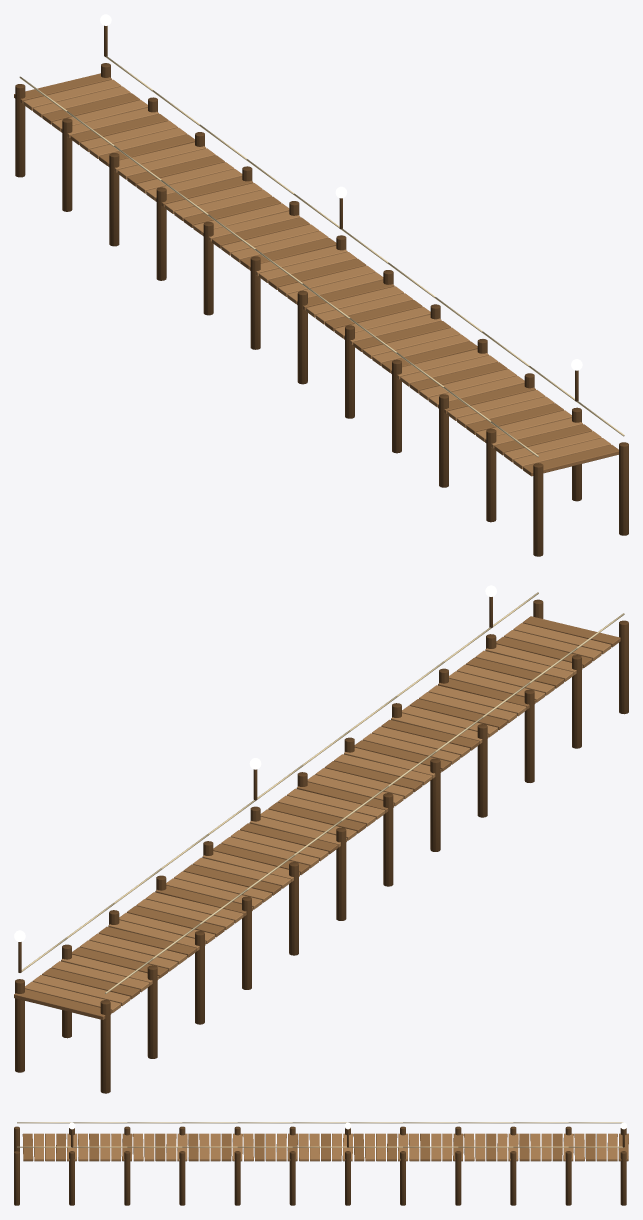
The model's file is dermaga.glb.
3 views of the same model, one above another, from view 1: azimuth 30°, elevation 25°; view 2: azimuth 150°, elevation 25°; view 3: azimuth 270°, elevation 25° (orthographic). The views are drawn at different scales.
Parts seen in each view (by area): view 1: Cube.054, Cylinder.044, Cylinder.012, Cylinder.016, Cylinder.020, Cylinder.008, Cylinder.024, Cylinder.004, Cylinder.040, Cylinder, Cylinder.045, Cube.053 (+56 smaller); view 2: Cube, Cylinder.028, Cylinder, Cylinder.020, Cylinder.024, Cylinder.032, Cylinder.004, Cylinder.036, Cylinder.044, Cube.002, Cylinder.008, Cylinder.040 (+56 smaller); view 3: Cylinder.002, Cylinder.006, Cylinder.014, Cylinder.030, Cylinder.038, Cylinder.026, Cylinder.010, Cylinder.034, Cylinder.045, Cylinder.022, Cylinder.018, Cylinder.042 (+56 smaller).
Part boxes in pixels (x1=…): Cube.054: x1=523, y1=444, x2=618, y2=476; Cylinder.044: x1=533, y1=463, x2=543, y2=556; Cylinder.012: x1=156, y1=187, x2=166, y2=280; Cylinder.016: x1=203, y1=222, x2=213, y2=315; Cylinder.020: x1=250, y1=256, x2=260, y2=349; Cylinder.008: x1=109, y1=153, x2=119, y2=246; Cylinder.024: x1=297, y1=290, x2=307, y2=384; Cylinder.004: x1=62, y1=118, x2=72, y2=211; Cylinder.040: x1=486, y1=428, x2=496, y2=522; Cylinder: x1=15, y1=84, x2=25, y2=177; Cylinder.045: x1=619, y1=442, x2=628, y2=535; Cube.053: x1=513, y1=438, x2=610, y2=469; Cube: x1=14, y1=989, x2=111, y2=1019; Cylinder.028: x1=430, y1=758, x2=440, y2=851; Cylinder: x1=100, y1=1000, x2=110, y2=1093; Cylinder.020: x1=336, y1=827, x2=346, y2=920; Cylinder.024: x1=383, y1=793, x2=393, y2=886; Cylinder.032: x1=477, y1=724, x2=487, y2=817; Cylinder.004: x1=147, y1=965, x2=157, y2=1058; Cylinder.036: x1=524, y1=689, x2=534, y2=782; Cylinder.044: x1=619, y1=620, x2=628, y2=714; Cube.002: x1=32, y1=975, x2=130, y2=1005; Cylinder.008: x1=195, y1=931, x2=204, y2=1024; Cylinder.040: x1=572, y1=655, x2=581, y2=748; Cylinder.002: x1=620, y1=1151, x2=626, y2=1205; Cylinder.006: x1=565, y1=1151, x2=571, y2=1205; Cylinder.014: x1=455, y1=1151, x2=461, y2=1205; Cylinder.030: x1=234, y1=1151, x2=240, y2=1205; Cylinder.038: x1=124, y1=1151, x2=130, y2=1205; Cylinder.026: x1=289, y1=1151, x2=295, y2=1205; Cylinder.010: x1=510, y1=1151, x2=516, y2=1205; Cylinder.034: x1=179, y1=1151, x2=185, y2=1205; Cylinder.045: x1=14, y1=1151, x2=19, y2=1205; Cylinder.022: x1=345, y1=1151, x2=350, y2=1205; Cylinder.018: x1=400, y1=1151, x2=405, y2=1205; Cylinder.042: x1=69, y1=1151, x2=74, y2=1205.
Size of the model in its own units: 4.66 by 6.55 by 44.59.
